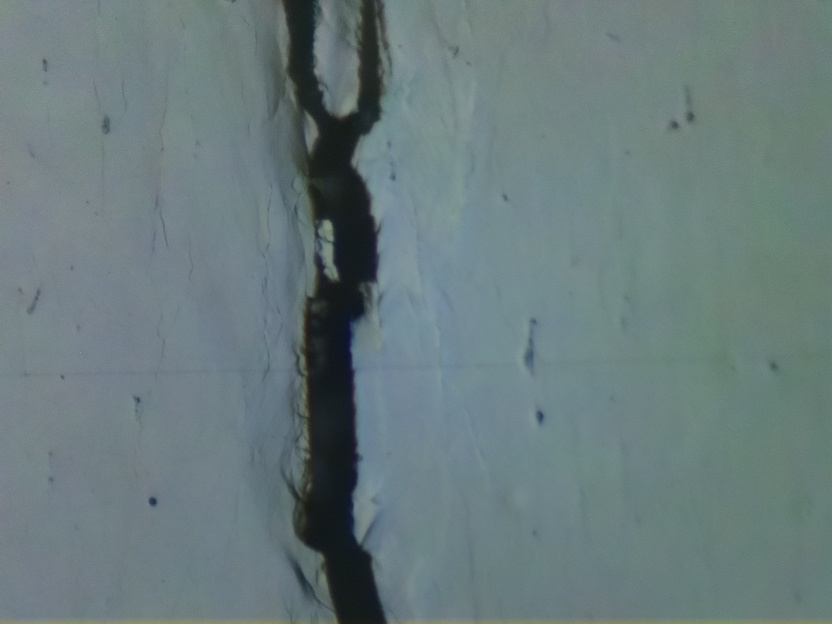crack: (278, 0, 391, 621)
